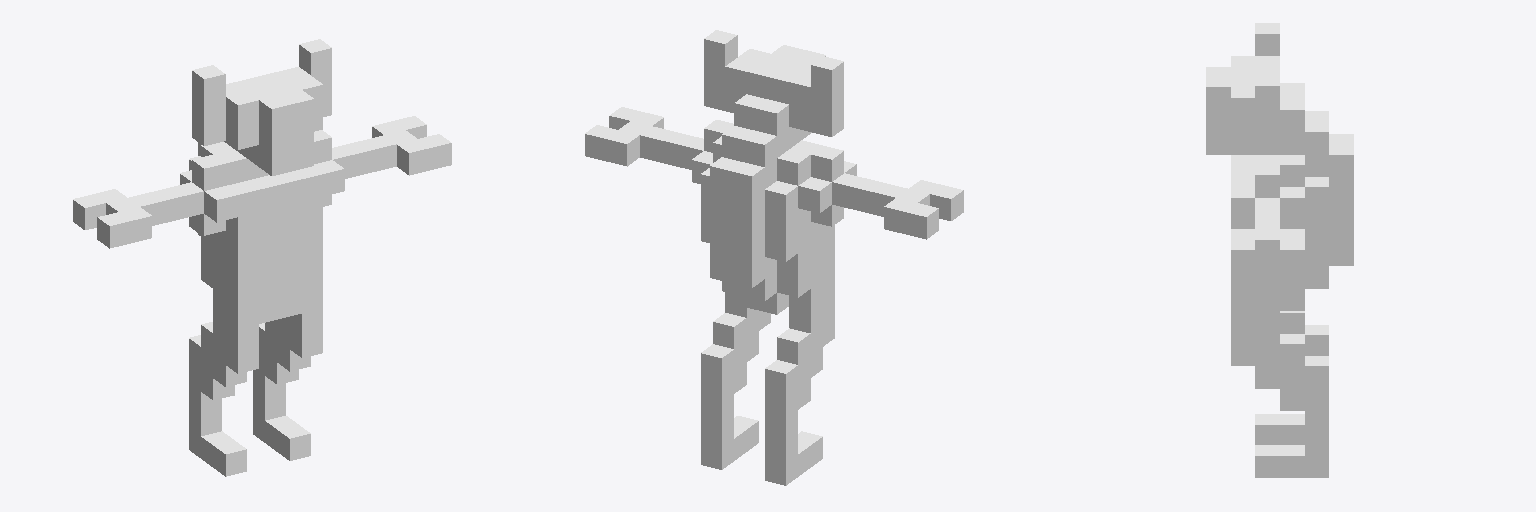
Rendered from fastrobot.obj.
The picture shows the model from 3 angles: view 1: azimuth 30°, elevation 25°; view 2: azimuth 150°, elevation 25°; view 3: azimuth 270°, elevation 25°; orthographic projection.
Visible parts, largest first — view 1: object 1; view 2: object 1; view 3: object 1.
Part boxes in pixels (bbox=[...]): object 1: bbox=[73, 39, 451, 476]; object 1: bbox=[585, 30, 963, 485]; object 1: bbox=[1206, 23, 1353, 477].
Size of the model in its own units: 1.6 by 1.8 by 0.6.